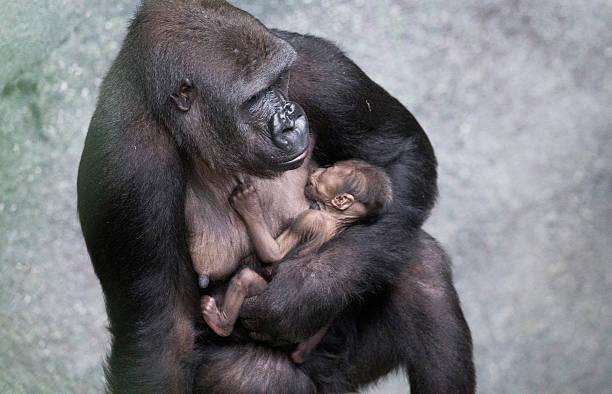gorille_Autres: (82, 2, 483, 394)
